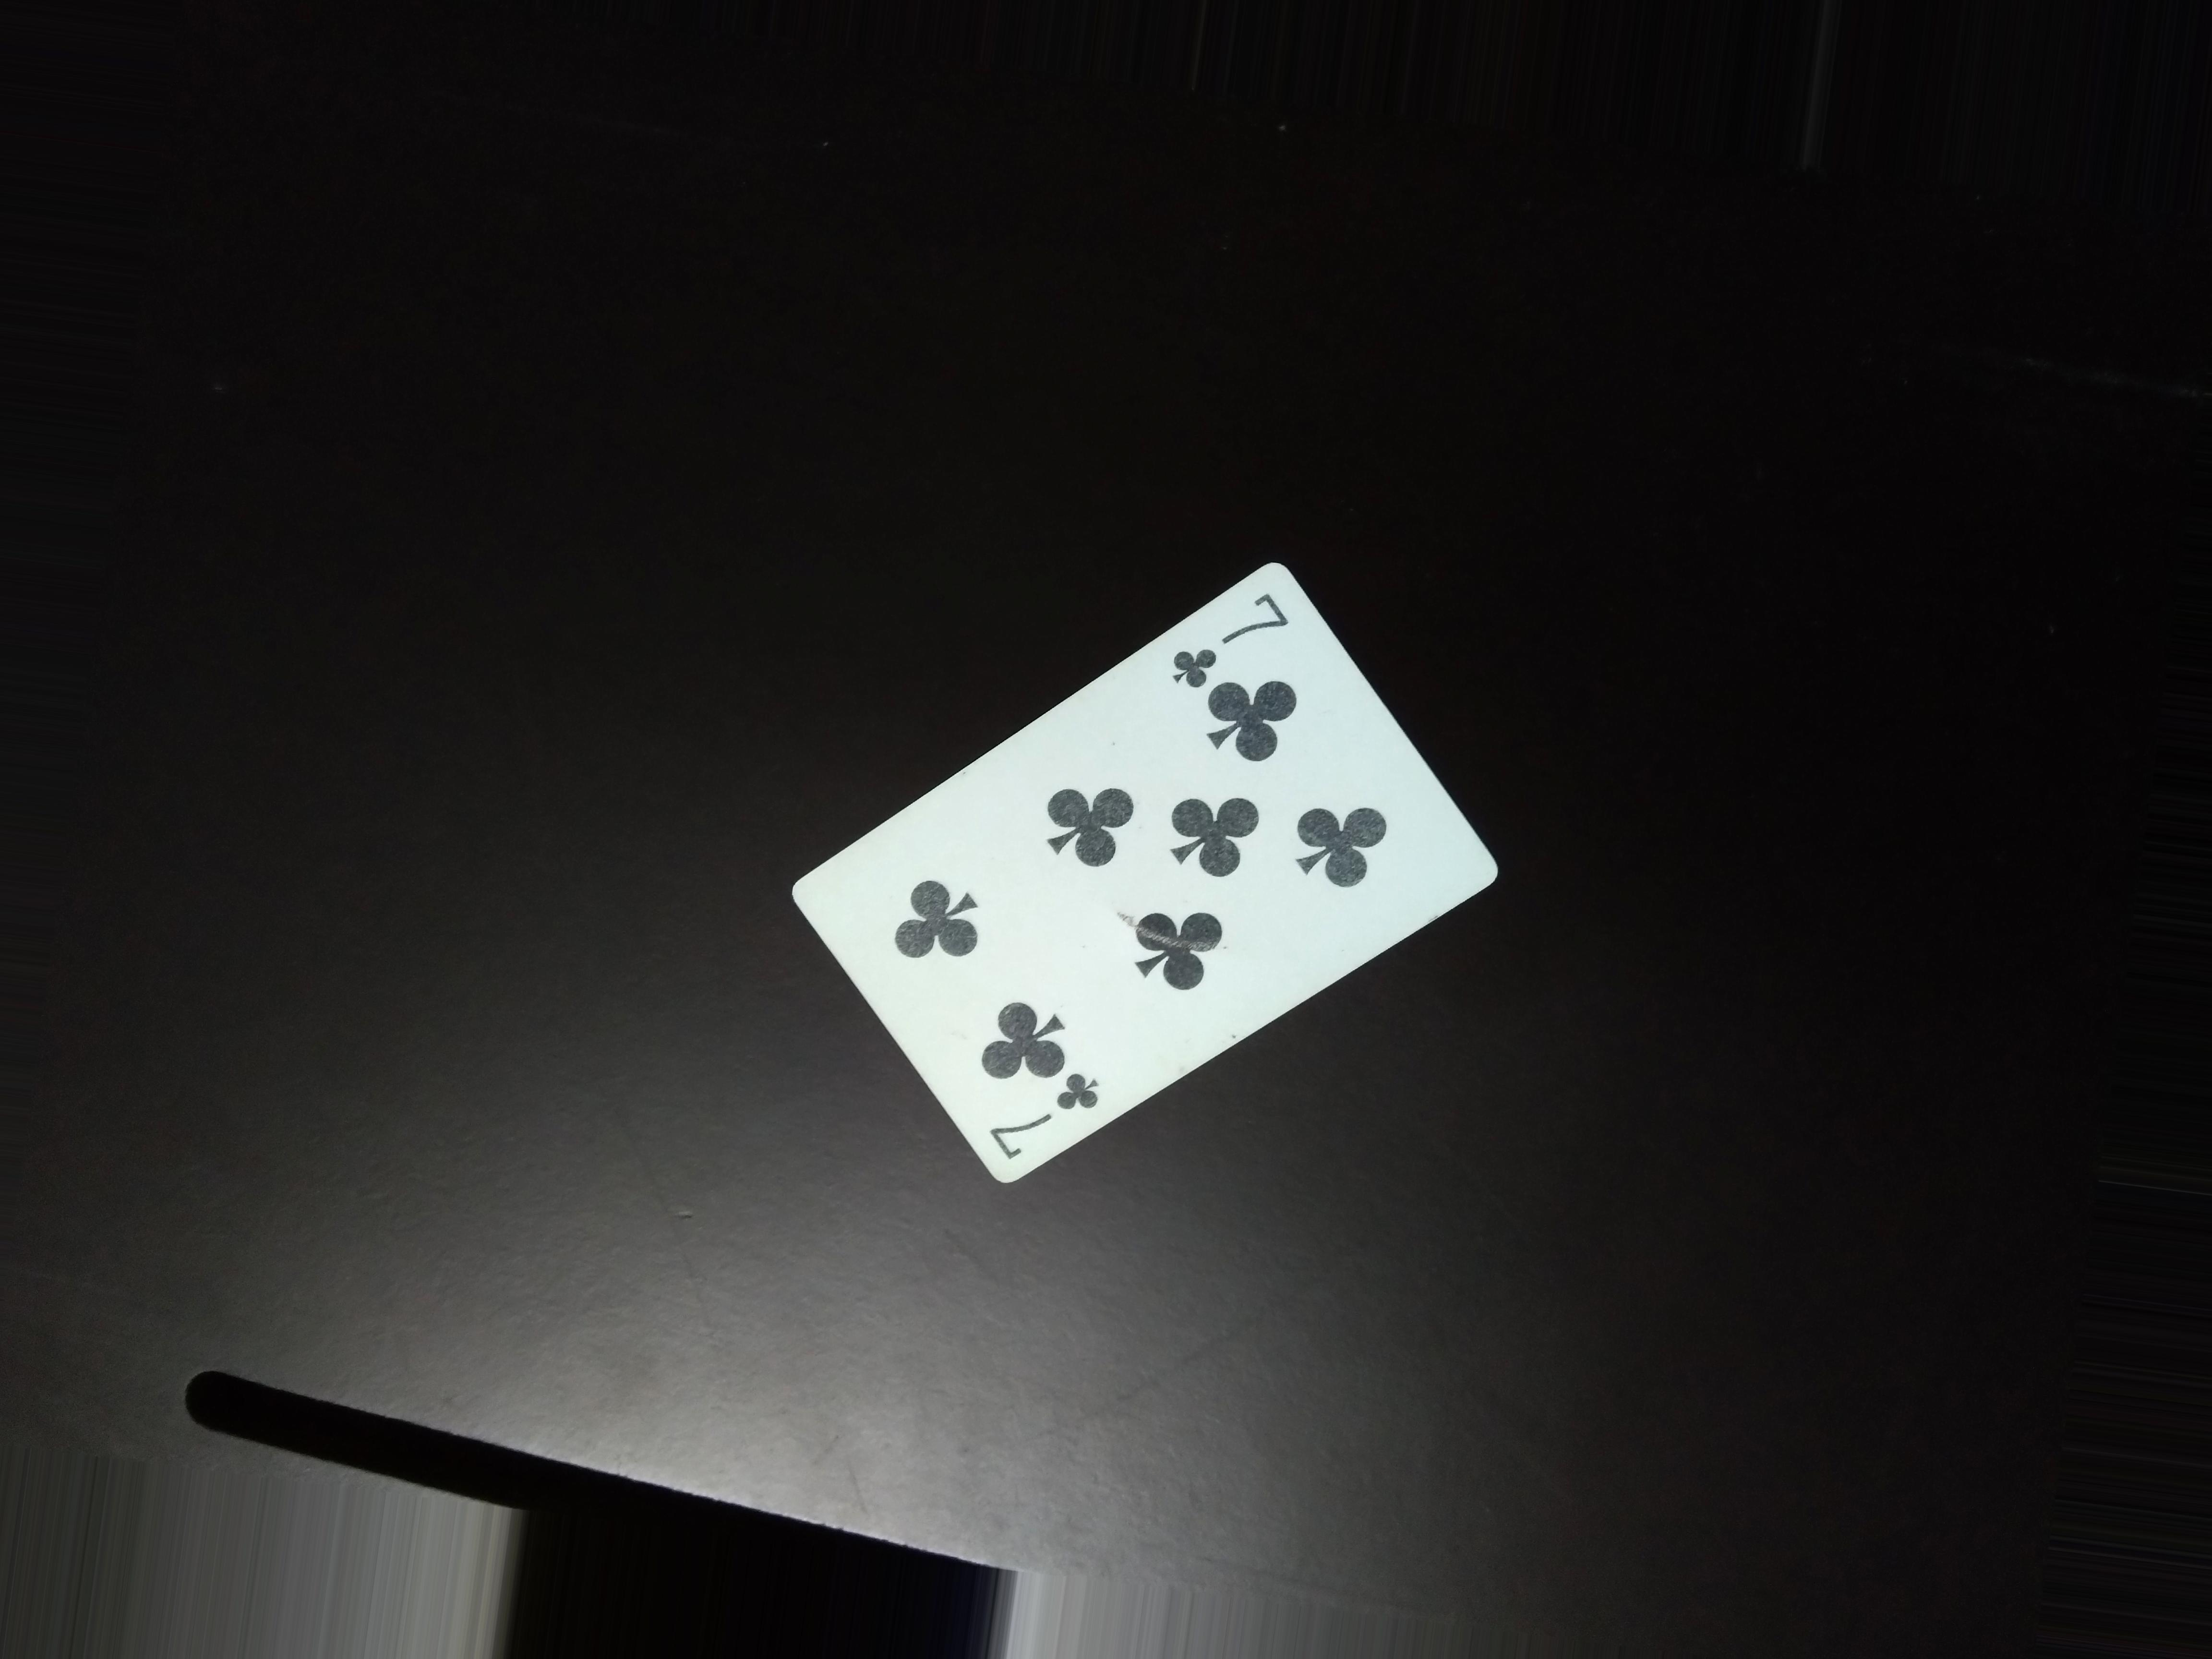7C: (1167, 591, 1315, 694)
